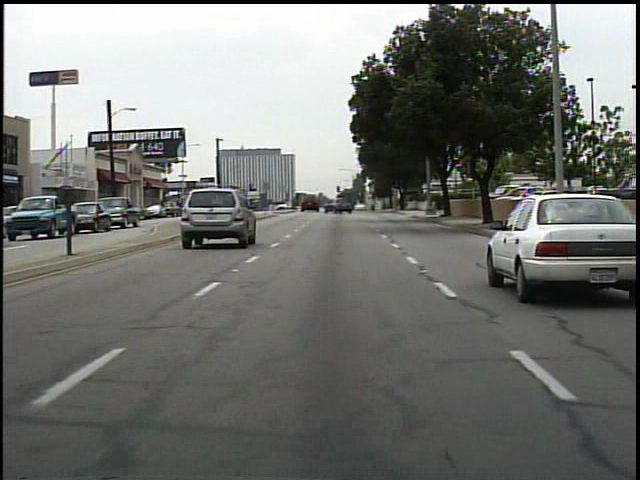car: (489, 180, 640, 306), (177, 185, 261, 251), (3, 194, 71, 237), (72, 200, 113, 232), (112, 195, 136, 227)
strada: (1, 256, 524, 479)
